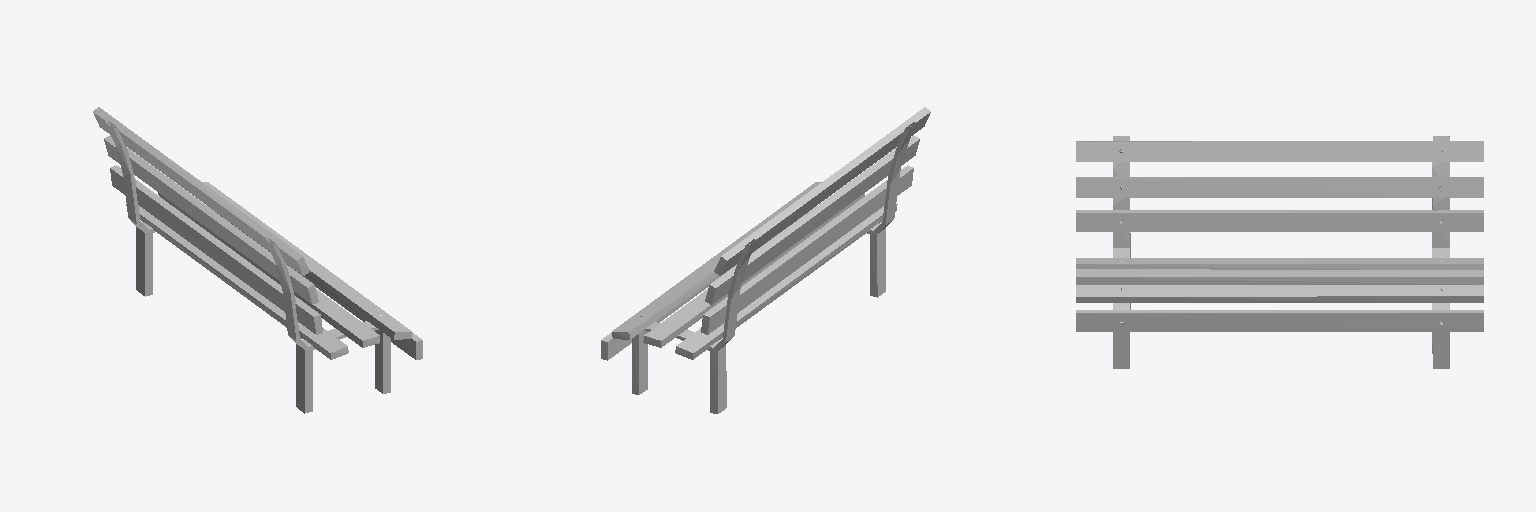
File: banca_1.obj
3 views of the same model, side by side, from view 1: azimuth 30°, elevation 25°; view 2: azimuth 150°, elevation 25°; view 3: azimuth 270°, elevation 25° (orthographic).
Parts seen in each view (by area): view 1: Line02.001; view 2: Line02.001; view 3: Line02.001.
Boxes of the visible parts, box(x1,y1,x2,y2) form: Line02.001: box(93, 107, 422, 413); Line02.001: box(601, 107, 930, 413); Line02.001: box(1076, 136, 1483, 368).
Size of the model in its own units: 1.65 by 2.1 by 4.41.